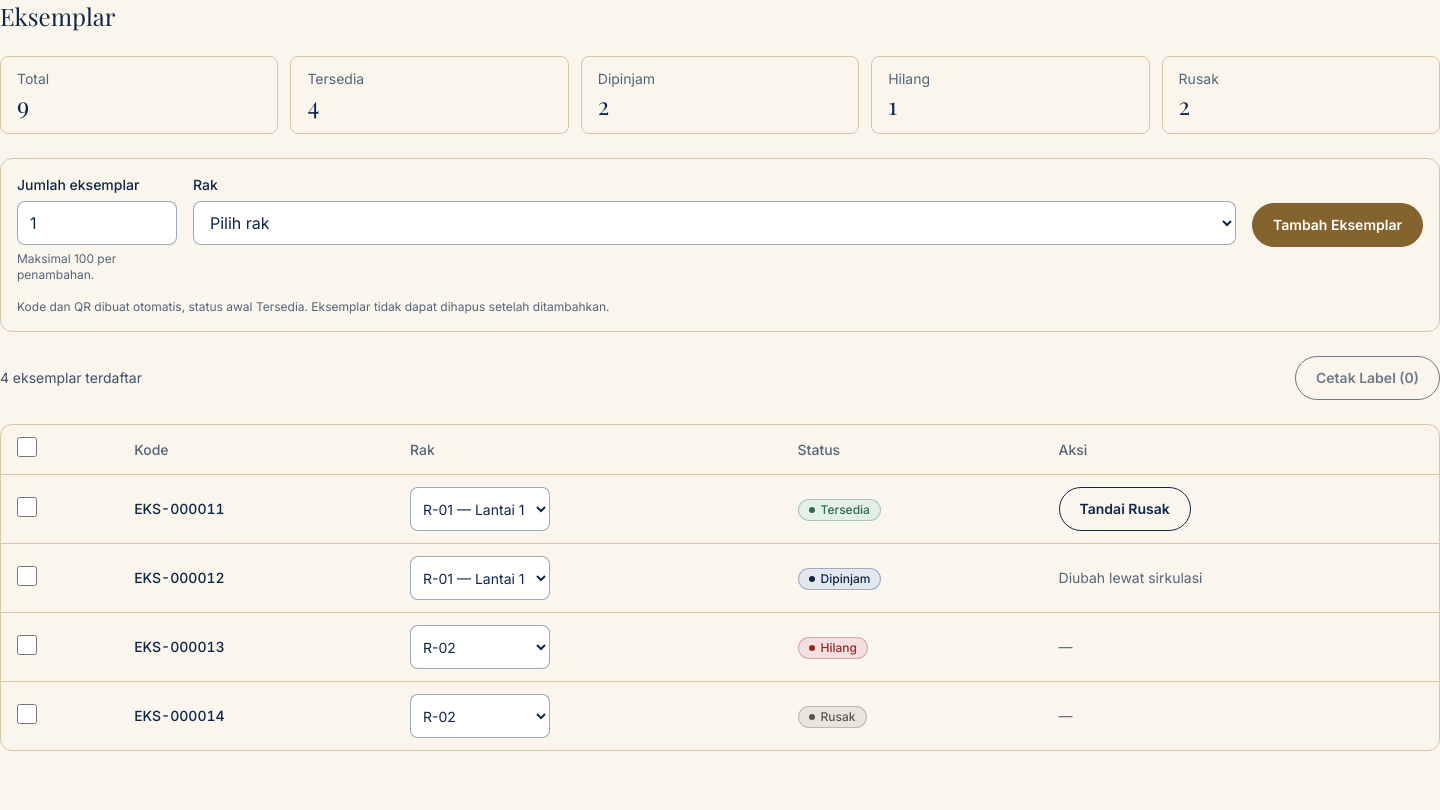
Eksemplar per judul (FR-BKU-04..09, K-02, OQ-20, OQ-21) › FR_BKU_04_penolakan_backend_batas_jumlah_pesan_apa_adanya
The image size is (1440, 810).
Replace the text in the field labelled "Jumlah eksemplar" with "500": (97, 223) [17,201,177,245]
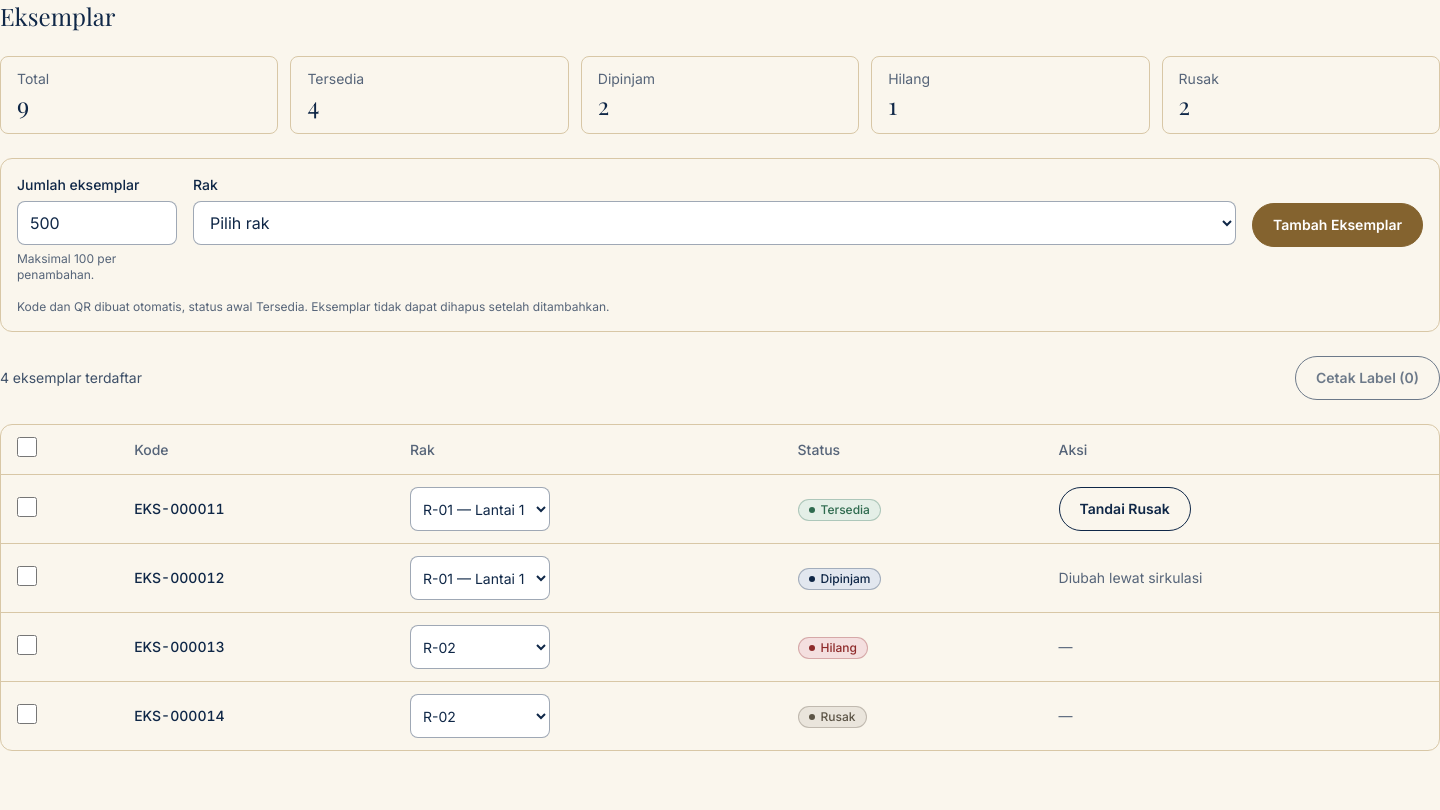
Select "R-01 — Lantai 1" in the dropdown labelled "Rak": (715, 223) [193,201,1236,245]
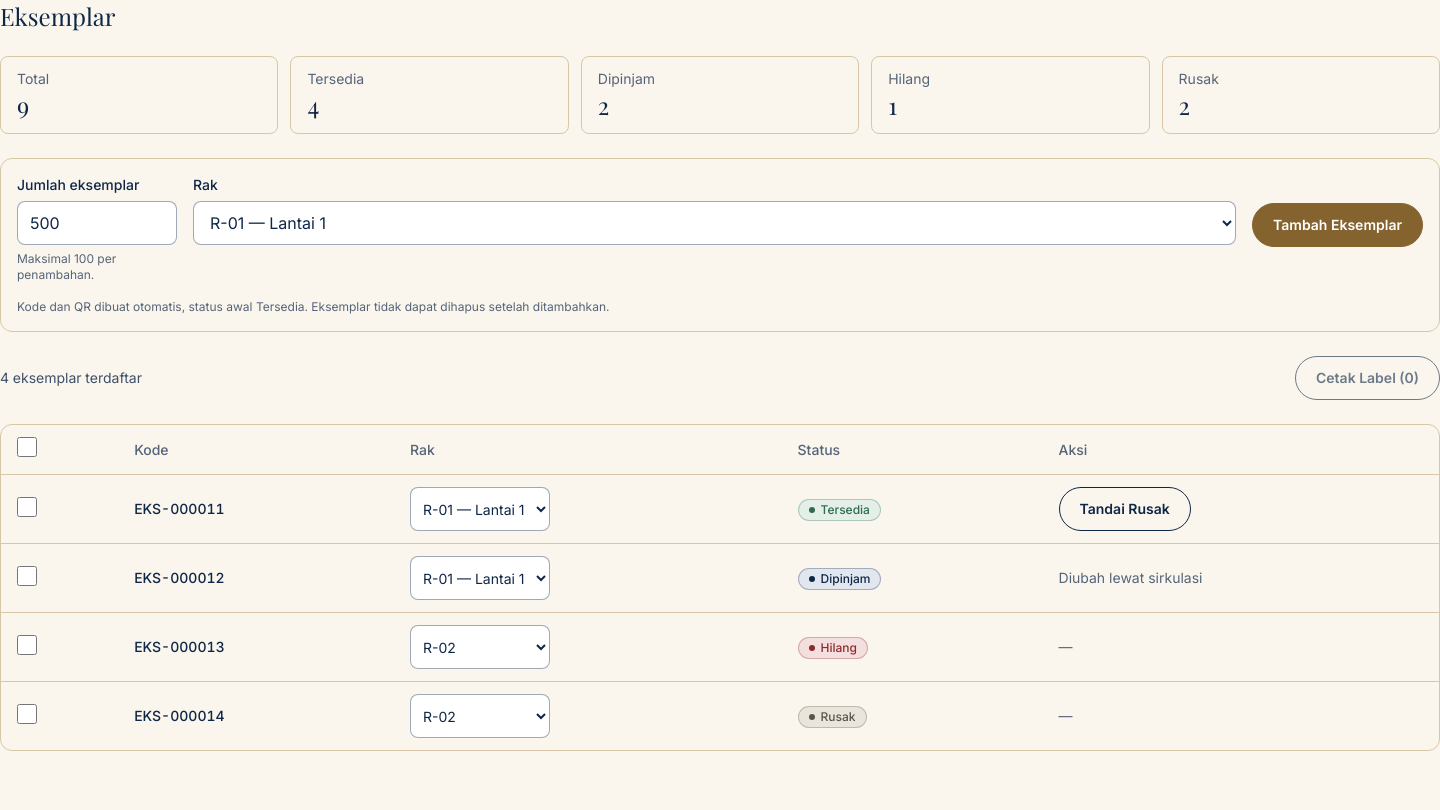
Click the button "Tambah Eksemplar": click(1338, 225) [1252,203,1423,247]
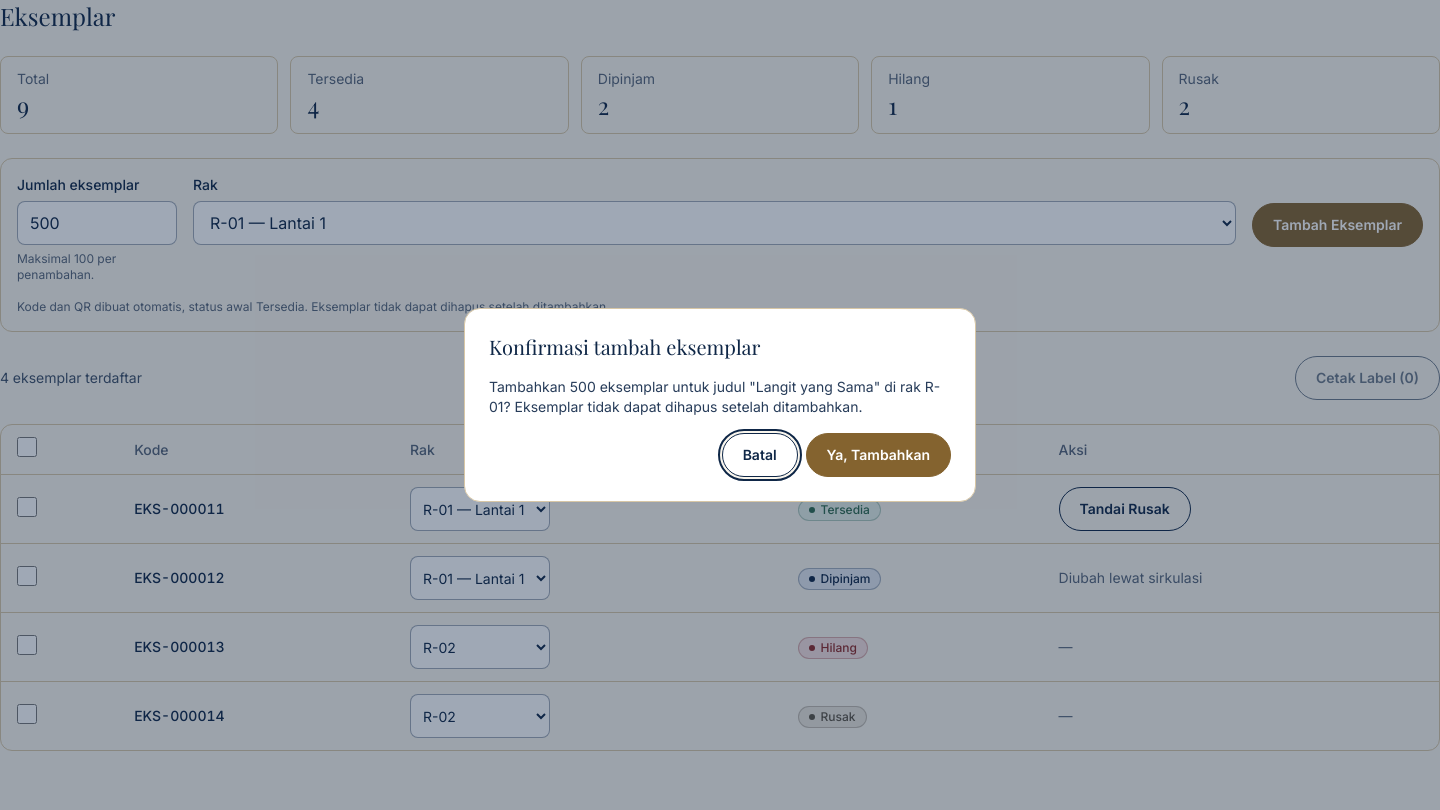
Click the button "Ya, Tambahkan": click(878, 455) [806,433,951,477]
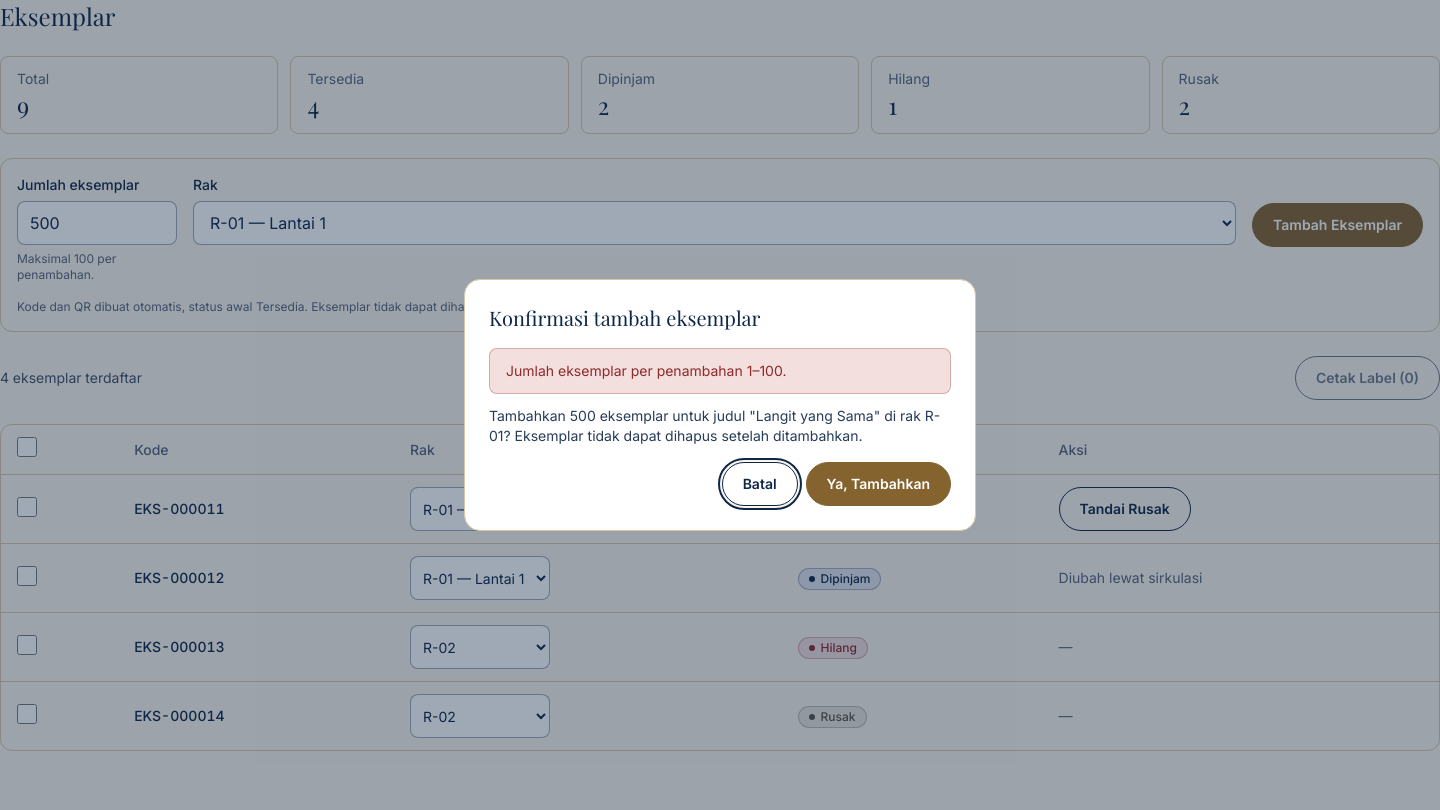
Expected: the message reads "Jumlah eksemplar per penambahan 1–100.", [506,362,786,379]
